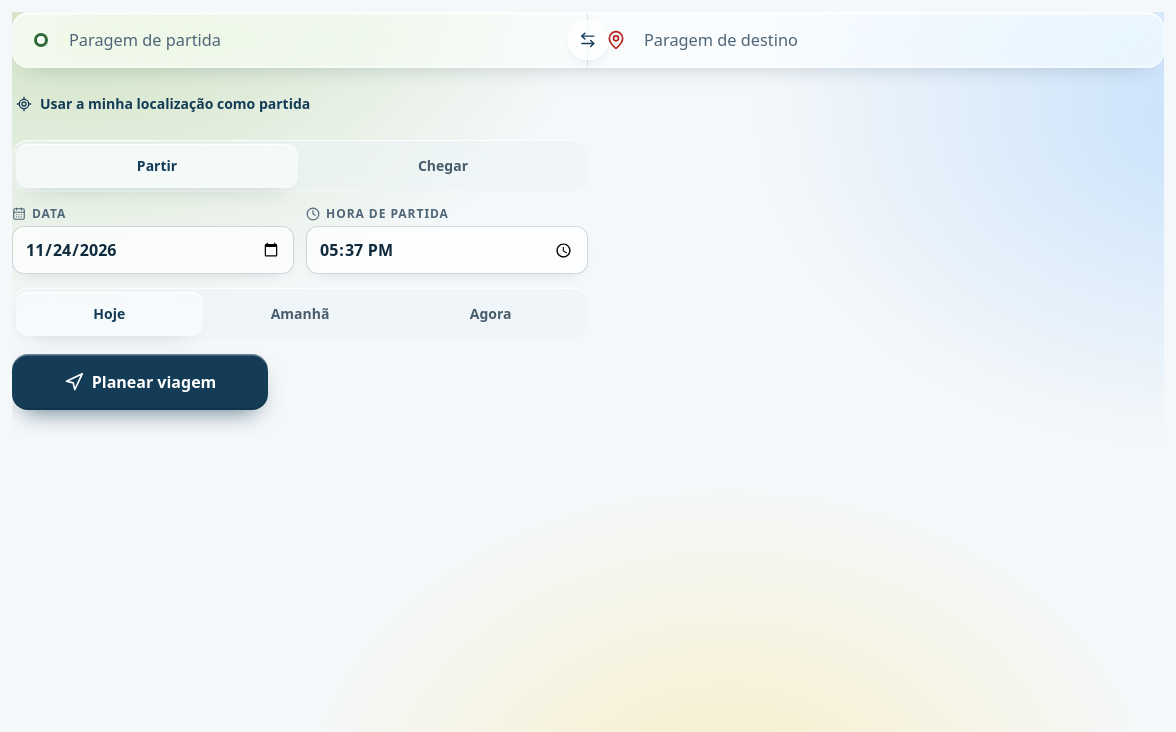
it: PlannerForm › pede origem e destino antes de planear
Click the button "Planear viagem" at x=140, y=382, box [12,354,268,410]
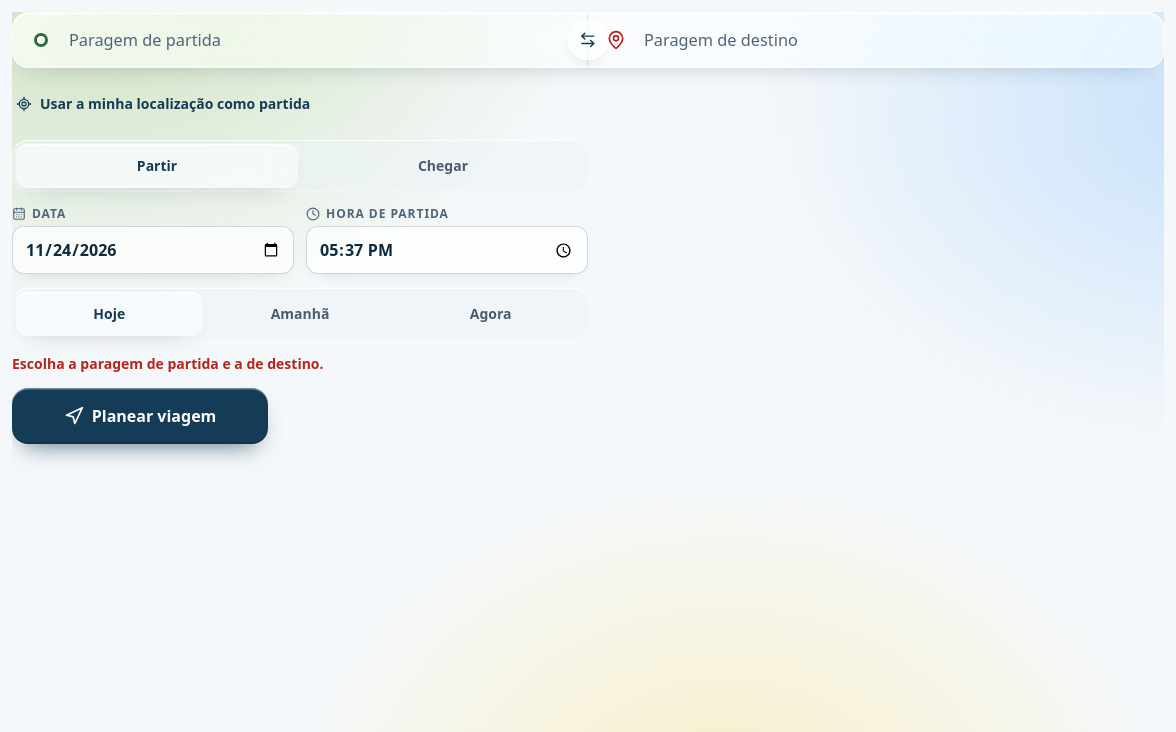
Expected: the message shows "Escolha a paragem de partida e a de destino", [12,354,324,373]
